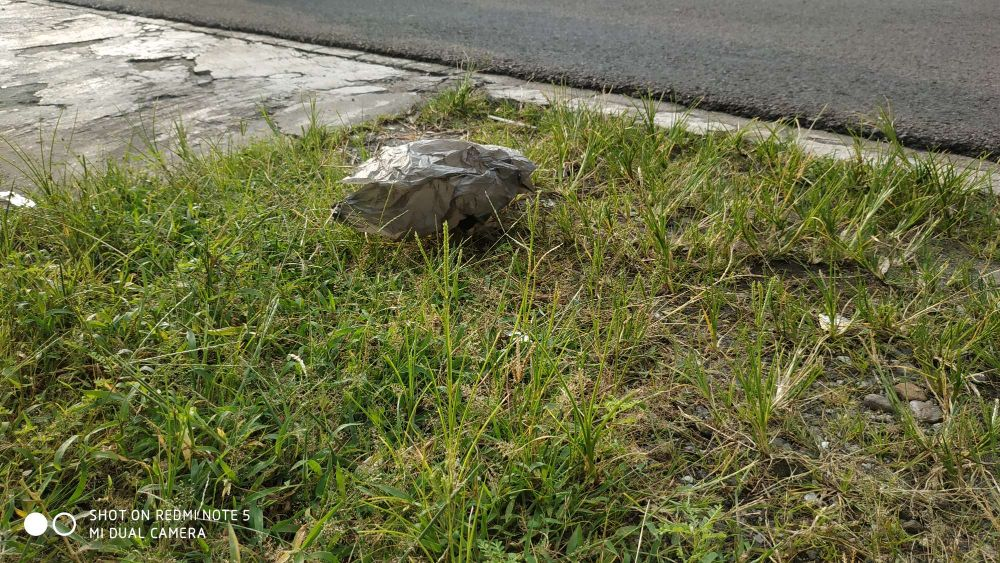plastik: (324, 136, 538, 239)
